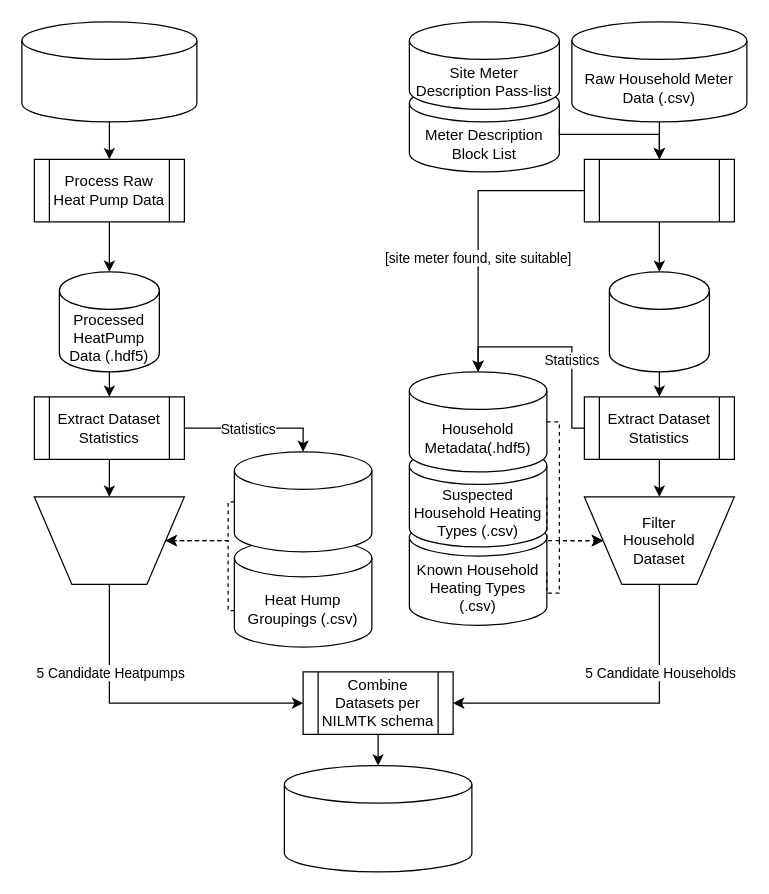
This 769x894 diagram has some shape labels left out. Each missing label, with the centre of its shape:
Filter Heat Pump Dataset: the point at 108,540
Heat Pump Metadata (.hdf5): the point at 302,501
Process Raw Household Data: the point at 658,190
Processed Household Data (.hdf5): the point at 658,321
Raw Heat Pump Meter Data (.mat): the point at 109,71
Synthesized Datasets in the NILMTK Format (.hdf5): the point at 377,818
